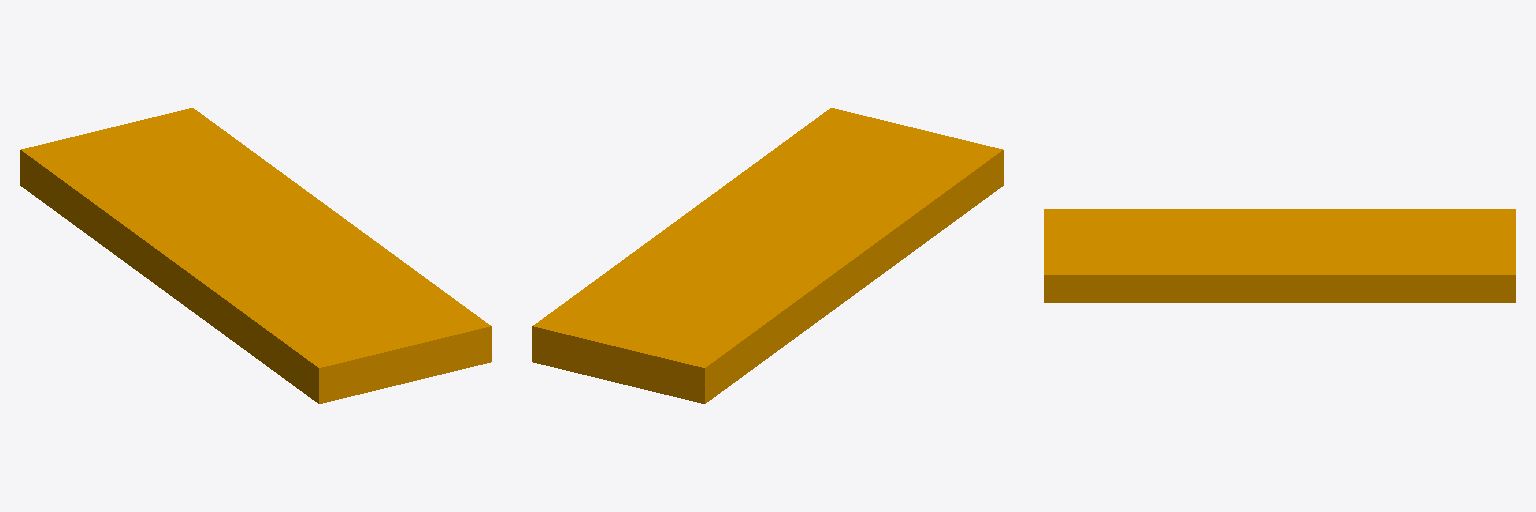
robot.urdf — box_small_13092023:
<?xml version="1.0"?>
<robot name="box_small_13092023">
  <link name="box_small_13092023">
    <inertial>
      <mass value="10"/>
      <!-- Inertia values were calculated to be consistent with the mass and
           geometry size, assuming a uniform density. -->
      <inertia ixx="0.051" ixy="0" ixz="0" iyy="0.051" iyz="0" izz="0.102"/>
    </inertial>
    <visual>
      <geometry>
        <box size=".1 .3 .02"/>
      </geometry>
    </visual>
    <collision>
      <geometry>
        <box size=".1 .3 .02"/>
      </geometry>
    </collision>
  </link>
</robot>

--- Facts derived from the render (not from the file) ---
The picture shows the robot from 3 angles, left to right: view 1: azimuth 30°, elevation 25°; view 2: azimuth 150°, elevation 25°; view 3: azimuth 270°, elevation 25°; orthographic projection.
Robot: box_small_13092023 — 1 links, 0 joints (none); root link box_small_13092023; default pose: all joints at 0.
Visible links, largest first — view 1: box_small_13092023; view 2: box_small_13092023; view 3: box_small_13092023.
Link boxes in pixels (<box>): box_small_13092023: <box>20,108,491,403</box>; box_small_13092023: <box>532,108,1003,403</box>; box_small_13092023: <box>1044,209,1515,302</box>.
Size in the robot's own frame: 0.1 by 0.3 by 0.02 metres.
Geometry: primitives only (box / cylinder / sphere), no mesh files.